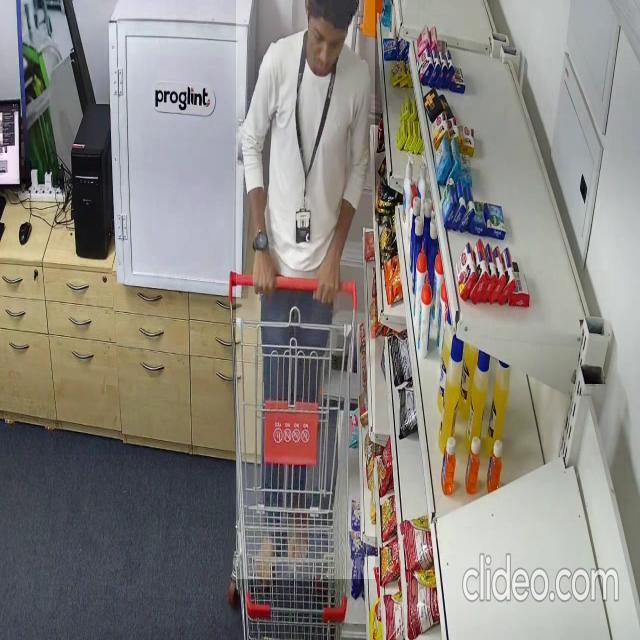normal: (236, 0, 375, 579)
